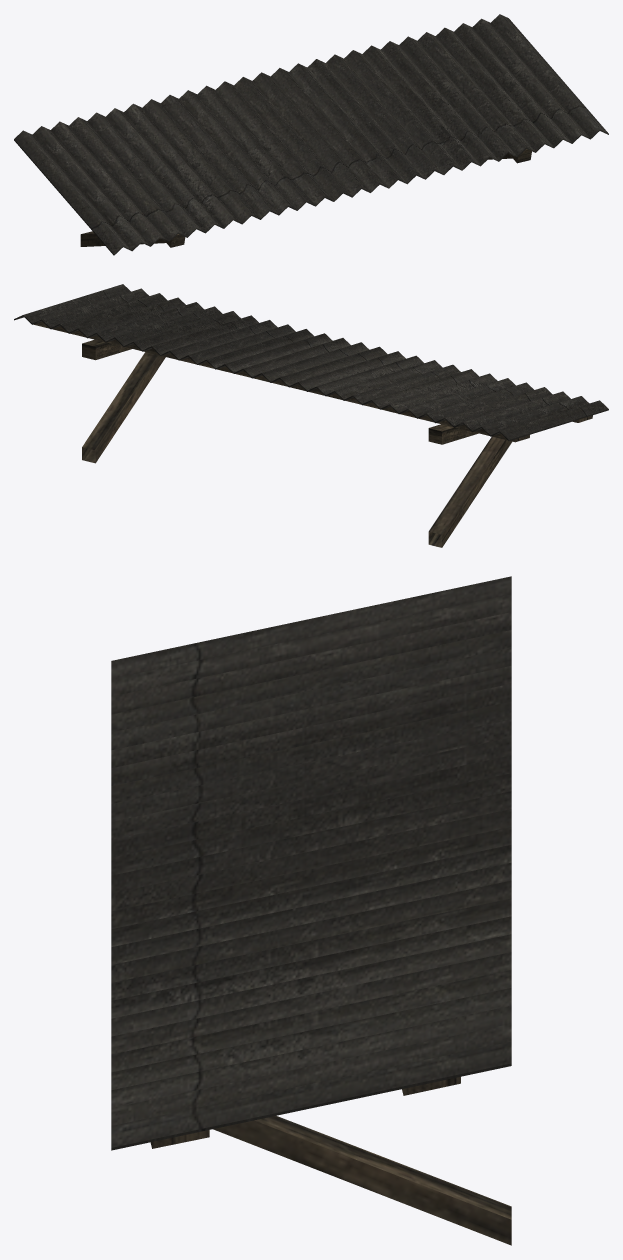
The model's file is roof_small_hr_2.dae.
The picture shows the model from 3 angles, top to bottom: view 1: azimuth 30°, elevation 25°; view 2: azimuth 150°, elevation 25°; view 3: azimuth 270°, elevation 25°; orthographic projection. The views are drawn at different scales.
Parts seen in each view (by area): view 1: roof_small_hr_2; view 2: roof_small_hr_2; view 3: roof_small_hr_2.
Part boxes in pixels (x1=…): roof_small_hr_2: x1=14, y1=14, x2=608, y2=255; roof_small_hr_2: x1=14, y1=284, x2=608, y2=547; roof_small_hr_2: x1=111, y1=576, x2=511, y2=1245.
Bounding box in the file's own units: 4 × 1.4 × 1.01.
Materials: 2 (2 with a texture image).
